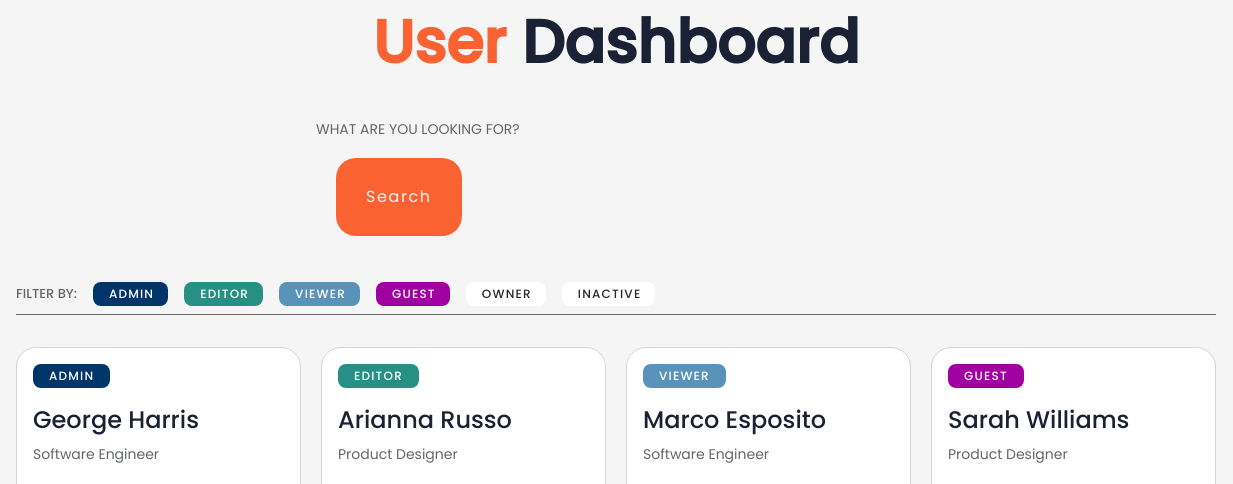
Test: User Dashboard - Integration Tests › Filter Journey › user can filter employees by permission level
Check: the heading "George Harris" is shown, box x1=33 y1=403 x2=199 y2=436
Check: the heading "Arianna Russo" is shown, box x1=338 y1=403 x2=512 y2=436
Note: User clicks on "Admin" filter badge
Click the button "ADMIN" at [131, 294], box x1=93 y1=282 x2=168 y2=306
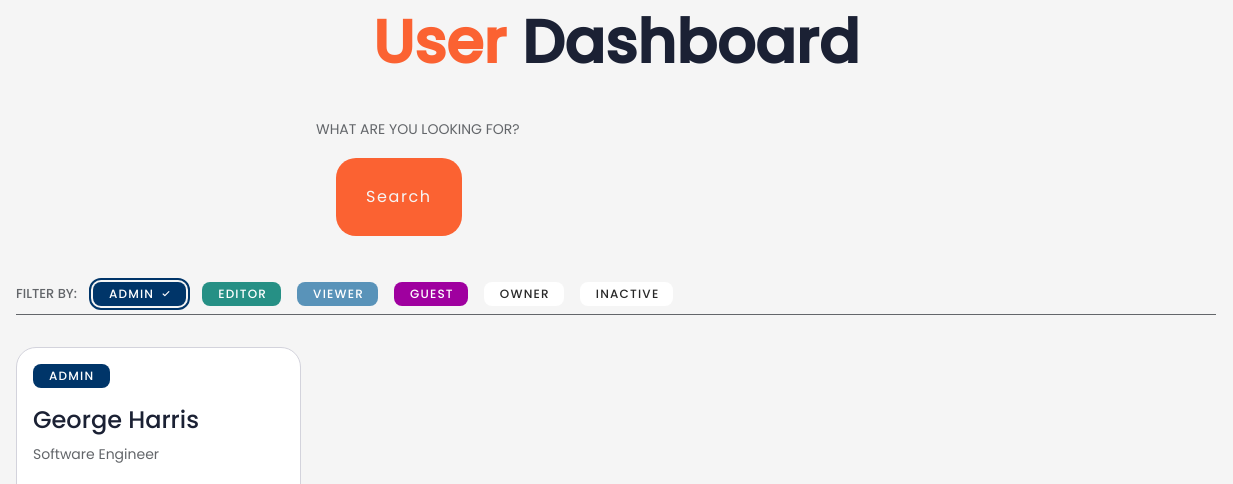
Check: the heading "George Harris" is shown, box x1=33 y1=403 x2=199 y2=436
Check: the heading "Arianna Russo" is gone
Check: the heading "Marco Esposito" is gone
